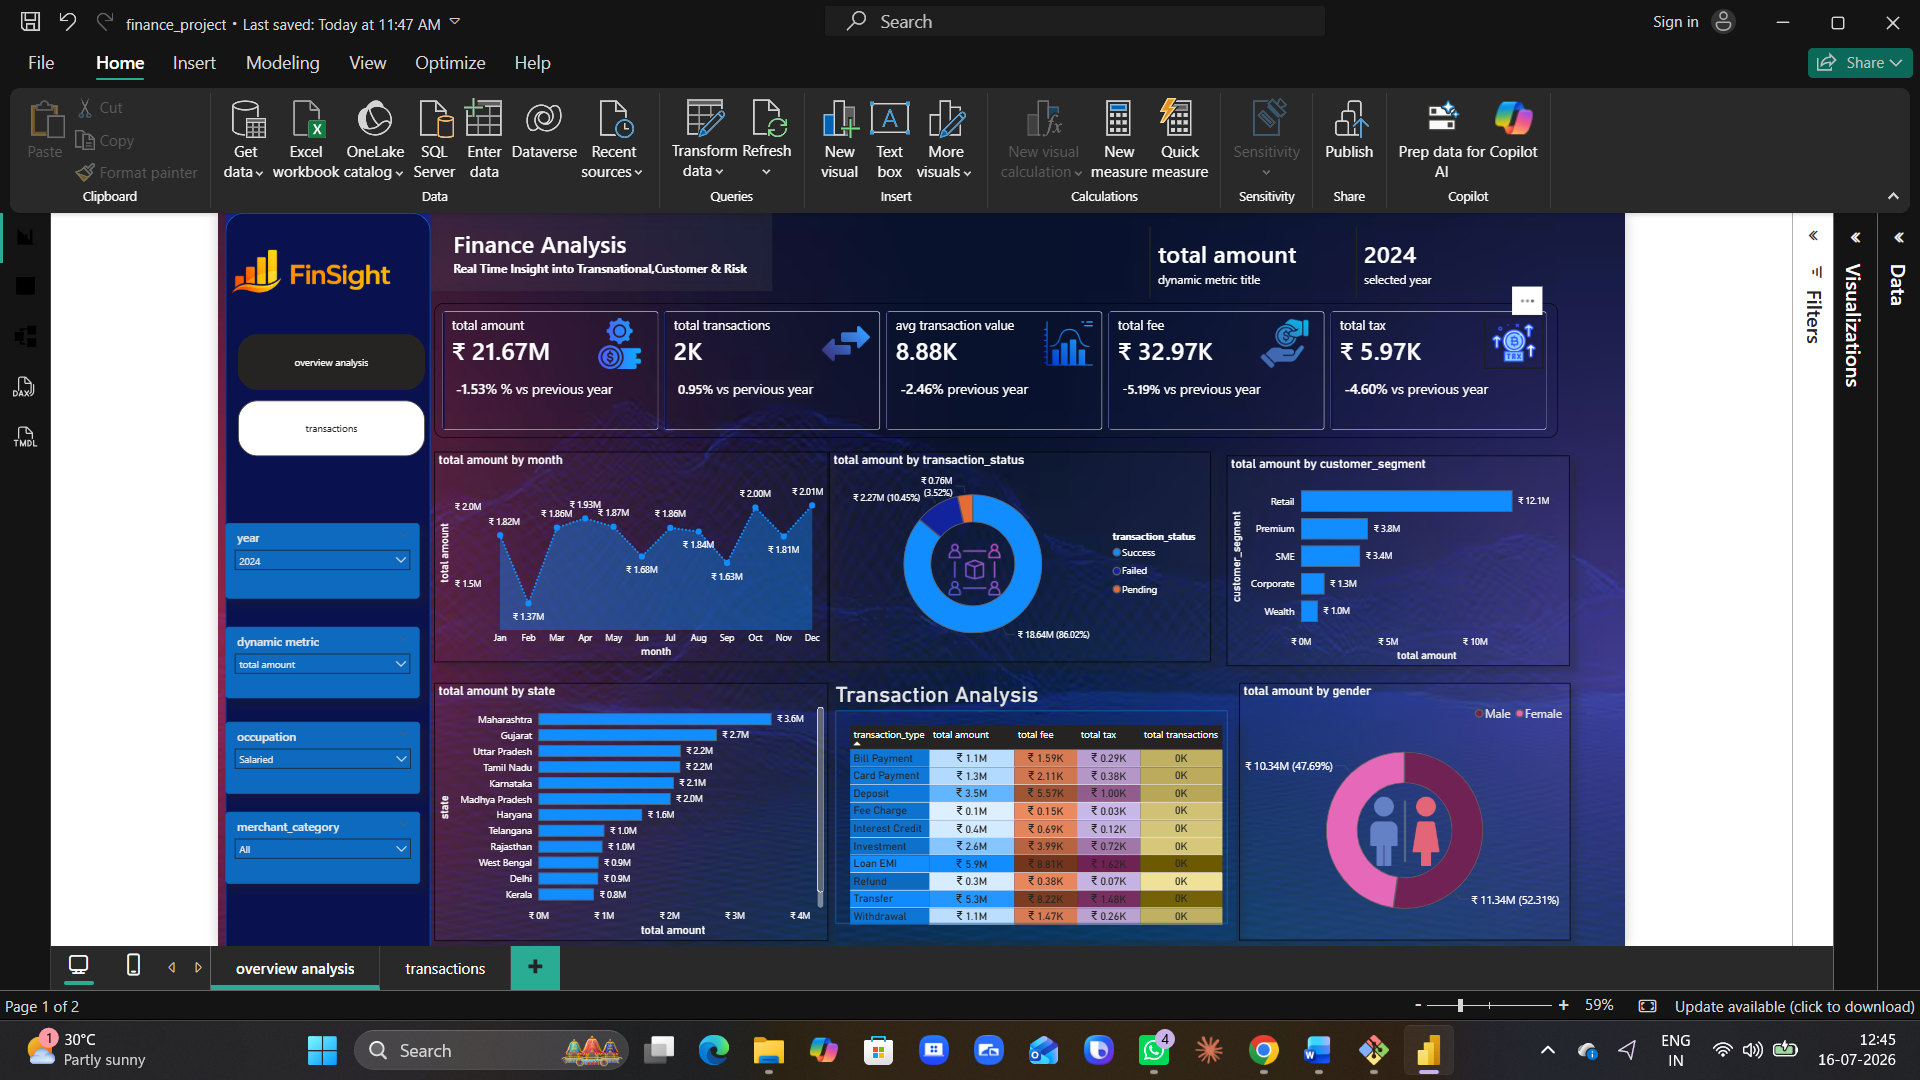

Layout of this report page (visuals, bound fields, positions):
{"tool":"powerbi","page":{"name":" overview analysis","canvas":[1919,1001],"ordinal":0},"visuals":[{"type":"shape","box":[9.6,0,279.8,1049.7],"z":0},{"type":"image","box":[9.6,15.4,239.3,129.3],"z":1000},{"type":"cardVisual","fields":{"Data":["finance_transactions.dashboard title"]},"box":[290.8,0,466.6,106.5],"z":2000},{"type":"cardVisual","fields":{"Data":["finance_transactions.total amount","finance_transactions.total transactions","finance_transactions.avg transaction value","finance_transactions.total fee","finance_transactions.total tax"]},"box":[295.8,123.4,1533.3,184.3],"z":3000},{"type":"slicer","fields":{"Values":["calenderv table.year"]},"box":[10.3,422.9,264.7,103.1],"z":4000},{"type":"image","box":[498.7,143.7,99.7,69.3],"z":5000},{"type":"image","box":[1409.9,143.7,89.6,69.3],"z":6000},{"type":"image","box":[1110.7,143.7,99.7,69.3],"z":7000},{"type":"image","box":[1727.7,142,81.1,71],"z":8000},{"type":"image","box":[806.4,143.7,99.7,69.3],"z":9000},{"type":"slicer","title":"metric","fields":{"Values":["dynamic metric.dynamic metric"]},"box":[10.3,563.9,264.7,98],"z":10000},{"type":"lineChart","fields":{"Y":["finance_transactions.total amount"],"Category":["calenderv table.month"]},"box":[295.8,326.3,537.6,287.4],"z":11000},{"type":"cardVisual","fields":{"Data":["finance_transactions.dynamic metric title","finance_transactions.selected year"]},"box":[1254.4,0,590,135.2],"z":12000},{"type":"donutChart","fields":{"Y":["finance_transactions.total amount"],"Category":["finance_transactions.transaction_status"]},"box":[833.4,326.3,520.7,287.4],"z":13000},{"type":"clusteredBarChart","fields":{"Y":["finance_transactions.total amount"],"Category":["customers.customer_segment"]},"box":[1376.1,331.3,468.3,287.4],"z":14000},{"type":"clusteredBarChart","fields":{"Y":["finance_transactions.total amount"],"Category":["customers.state"]},"box":[295.8,640.7,537.6,351.6],"z":15000},{"type":"tableEx","fields":{"Values":["finance_transactions.transaction_type","finance_transactions.total amount","finance_transactions.total fee","finance_transactions.total tax","finance_transactions.total transactions"]},"box":[857.1,694.8,533,298],"z":16000},{"type":"shape","title":"Transaction Analysis","box":[843.3,640.1,535.1,330.2],"z":17000},{"type":"donutChart","fields":{"Y":["finance_transactions.total amount"],"Category":["customers.gender"]},"box":[1393.7,641.4,452.1,351.4],"z":18000},{"type":"image","box":[1563.7,789.5,111.6,108.2],"z":19000},{"type":"image","box":[987.3,448,89.6,76.1],"z":20000},{"type":"slicer","title":"metric","fields":{"Values":["customers.occupation"]},"box":[10.1,694.8,265.4,98.1],"z":21000},{"type":"slicer","title":"metric","fields":{"Values":["finance_transactions.merchant_category"]},"box":[10.1,816.5,265.4,98.1],"z":22000},{"type":"pageNavigator","box":[27,165.7,255.3,167],"z":23000}]}

Visuals, with their boxes on the page's 1919x1001 design canvas (x1, y1, x2, y2). These are canvas units, not pixel positions in the 1920x1080 screenshot, which may show the page scaled, cropped or inside an application window:
shape: {"left": 10, "top": 0, "right": 289, "bottom": 1050}
image: {"left": 10, "top": 15, "right": 249, "bottom": 145}
cardVisual - finance_transactions.dashboard title: {"left": 291, "top": 0, "right": 757, "bottom": 106}
cardVisual - finance_transactions.total amount x finance_transactions.total transactions: {"left": 296, "top": 123, "right": 1829, "bottom": 308}
slicer - calenderv table.year: {"left": 10, "top": 423, "right": 275, "bottom": 526}
image: {"left": 499, "top": 144, "right": 598, "bottom": 213}
image: {"left": 1410, "top": 144, "right": 1500, "bottom": 213}
image: {"left": 1111, "top": 144, "right": 1210, "bottom": 213}
image: {"left": 1728, "top": 142, "right": 1809, "bottom": 213}
image: {"left": 806, "top": 144, "right": 906, "bottom": 213}
"metric" slicer: {"left": 10, "top": 564, "right": 275, "bottom": 662}
lineChart - finance_transactions.total amount x calenderv table.month: {"left": 296, "top": 326, "right": 833, "bottom": 614}
cardVisual - finance_transactions.dynamic metric title x finance_transactions.selected year: {"left": 1254, "top": 0, "right": 1844, "bottom": 135}
donutChart - finance_transactions.total amount x finance_transactions.transaction_status: {"left": 833, "top": 326, "right": 1354, "bottom": 614}
clusteredBarChart - finance_transactions.total amount x customers.customer_segment: {"left": 1376, "top": 331, "right": 1844, "bottom": 619}
clusteredBarChart - finance_transactions.total amount x customers.state: {"left": 296, "top": 641, "right": 833, "bottom": 992}
tableEx - finance_transactions.transaction_type x finance_transactions.total amount: {"left": 857, "top": 695, "right": 1390, "bottom": 993}
"Transaction Analysis" shape: {"left": 843, "top": 640, "right": 1378, "bottom": 970}
donutChart - finance_transactions.total amount x customers.gender: {"left": 1394, "top": 641, "right": 1846, "bottom": 993}
image: {"left": 1564, "top": 790, "right": 1675, "bottom": 898}
image: {"left": 987, "top": 448, "right": 1077, "bottom": 524}
"metric" slicer: {"left": 10, "top": 695, "right": 276, "bottom": 793}
"metric" slicer: {"left": 10, "top": 816, "right": 276, "bottom": 915}
pageNavigator: {"left": 27, "top": 166, "right": 282, "bottom": 333}
